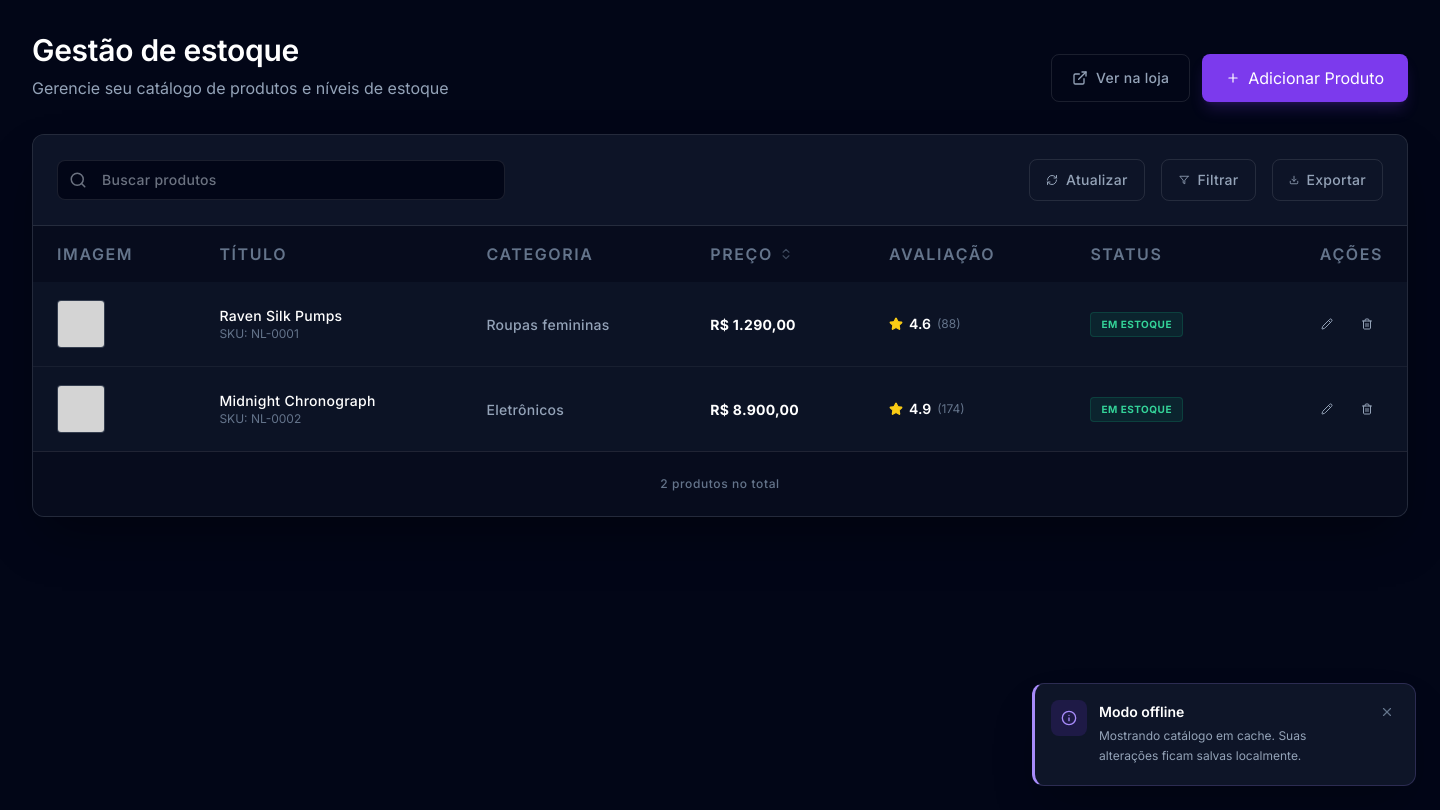
it: AdminProductsPage › filtra produtos por busca
Expected: the text "Midnight Chronograph" is shown, [219, 392, 376, 409]
Type "midnight" into the field with placeholder "Buscar produtos". click: (281,180)
box: [57, 160, 505, 200]
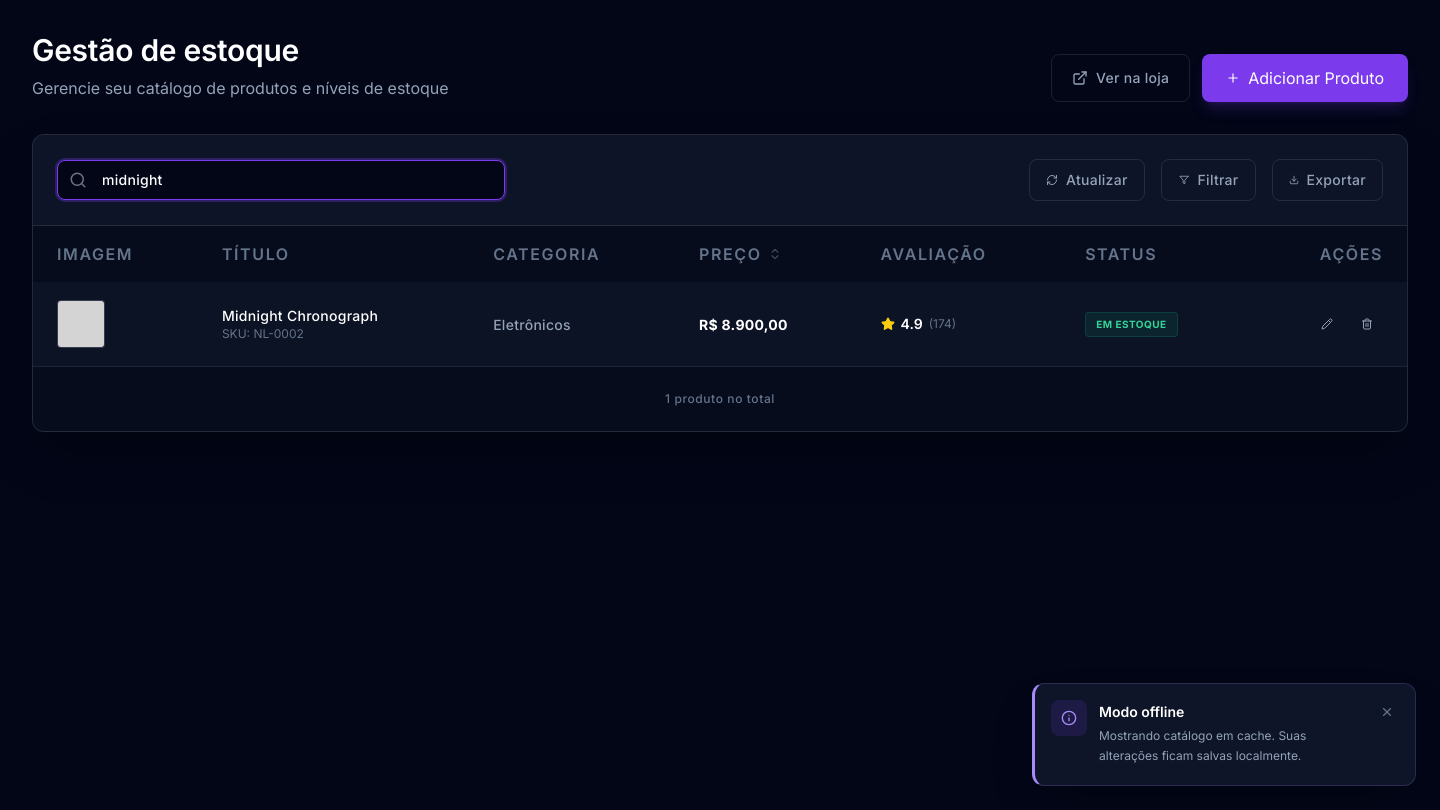
Expected: the text "Midnight Chronograph" is shown, [222, 307, 378, 324]
Now the text "Raven Silk Pumps" is gone
